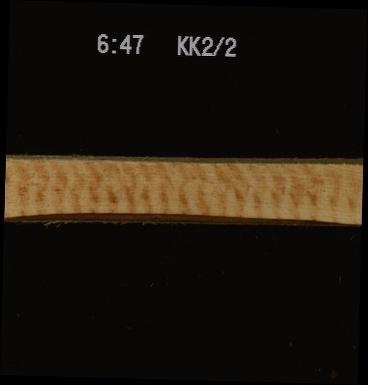wave: (4, 211, 361, 225)
